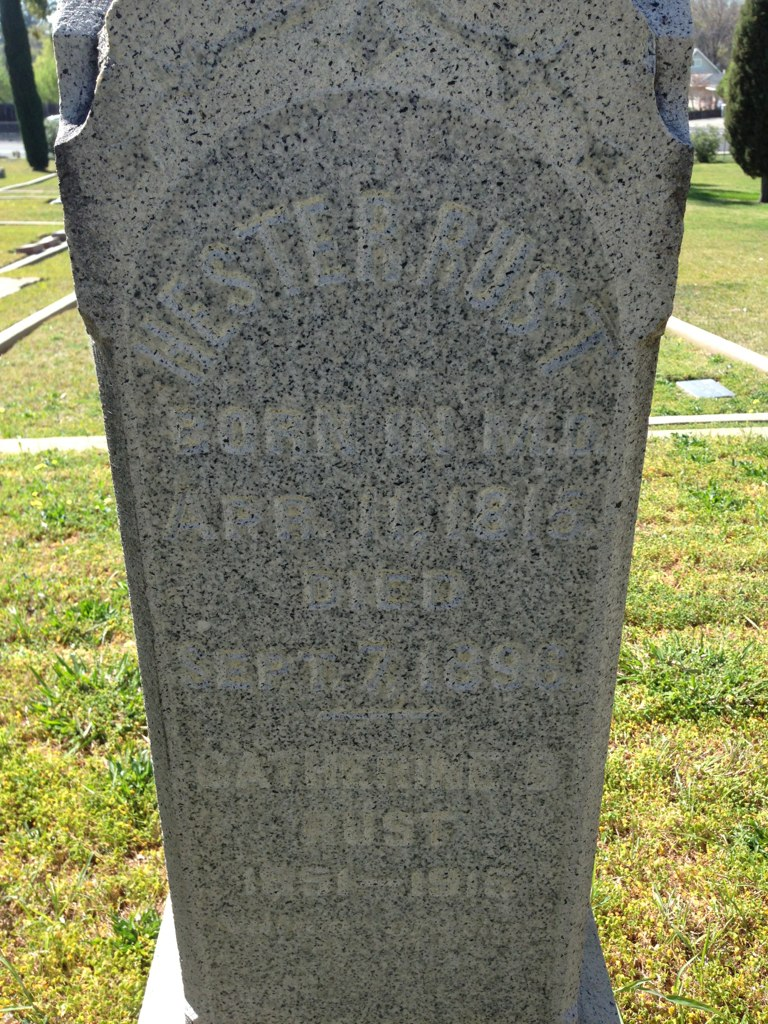upright: (48, 0, 692, 1024)
